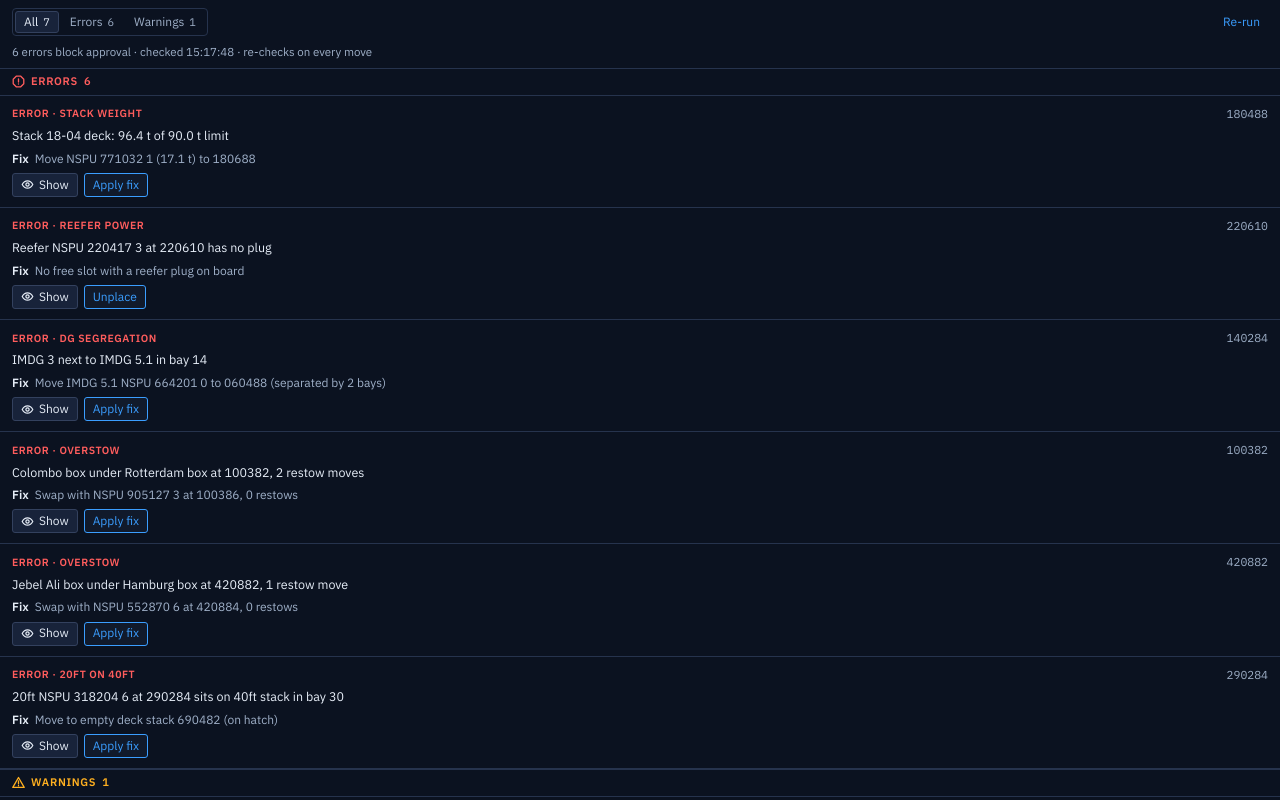
Test: ViolationsPanel › groups errors and warnings, with the severity filter as radios
The image size is (1280, 800).
Check: the radio button labelled "All 7" is checked, box x1=15 y1=11 x2=59 y2=33
Click the radio button labelled "Warnings 1": [165, 22] box x1=125 y1=11 x2=205 y2=33
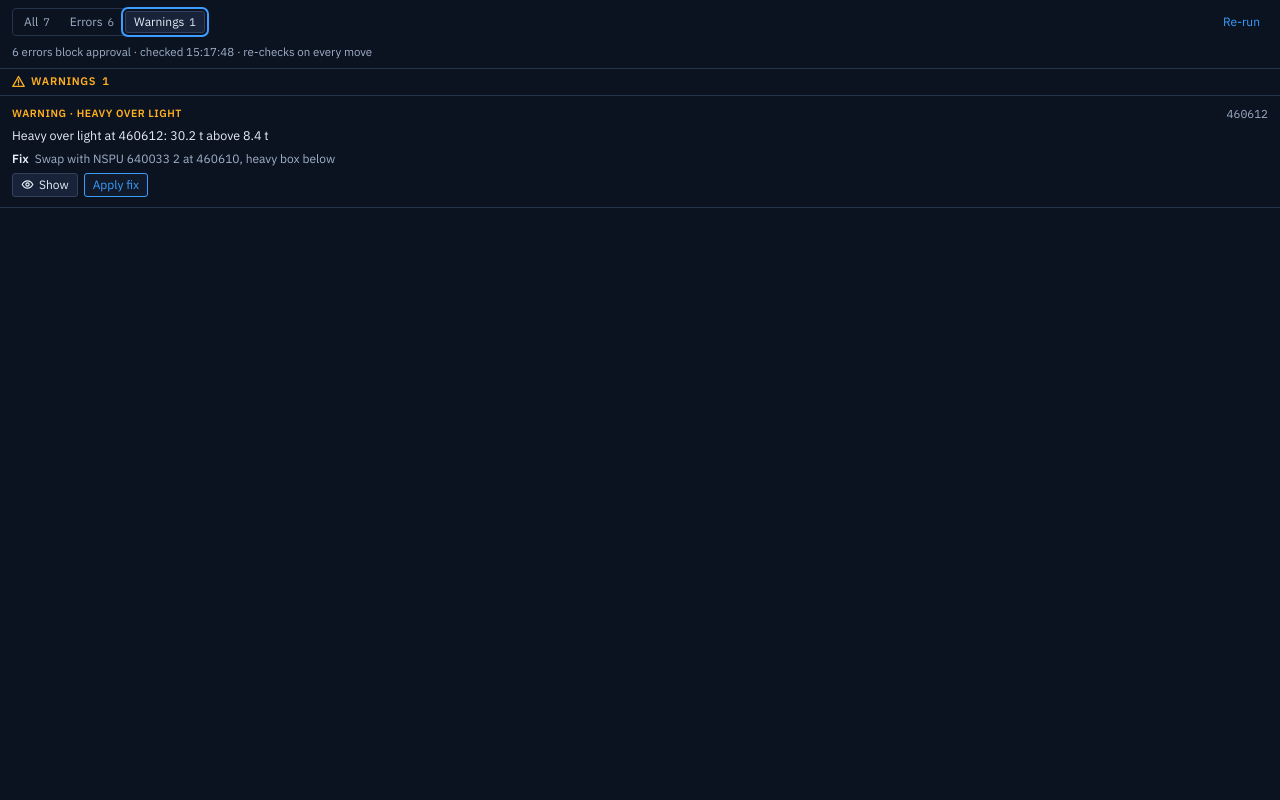
Note: Arrow keys move the choice, as in any radio group.
Press Arrowleft
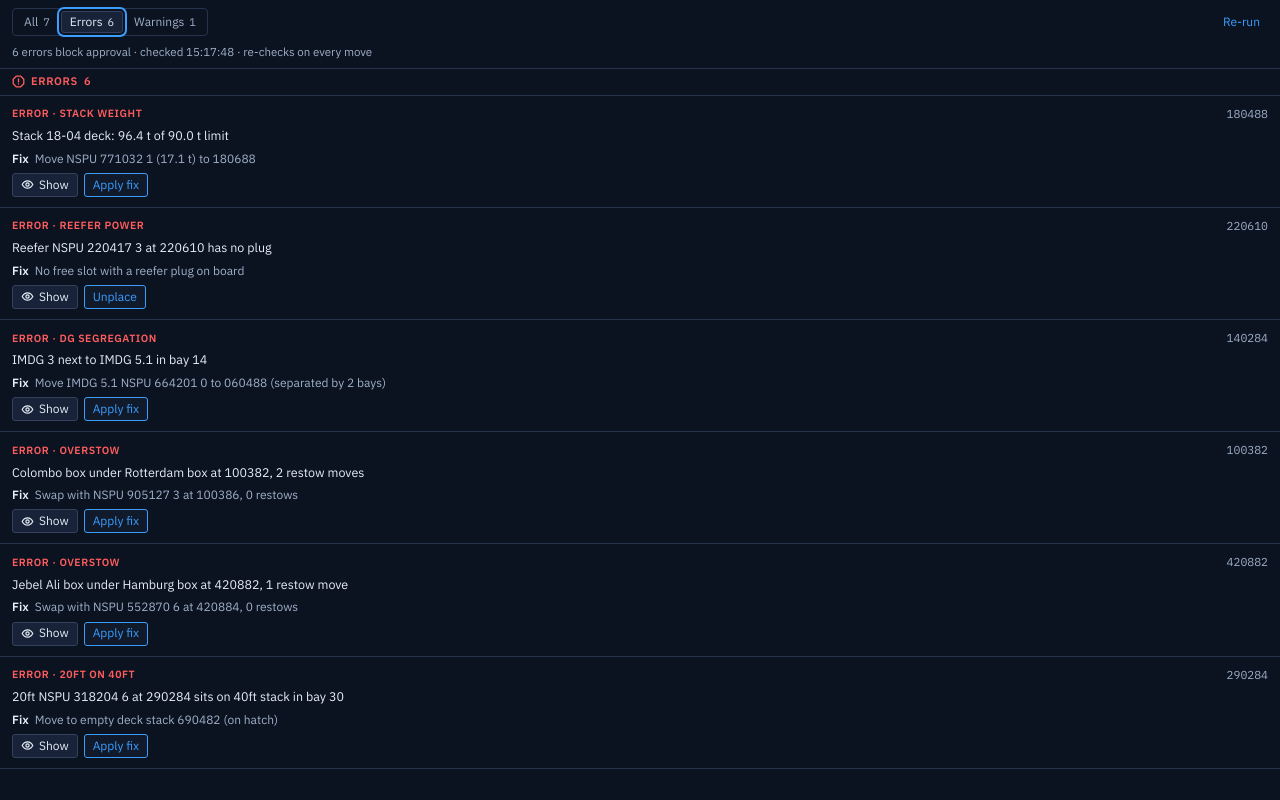
Check: the radio button labelled "Errors 6" is checked, box x1=61 y1=11 x2=123 y2=33
